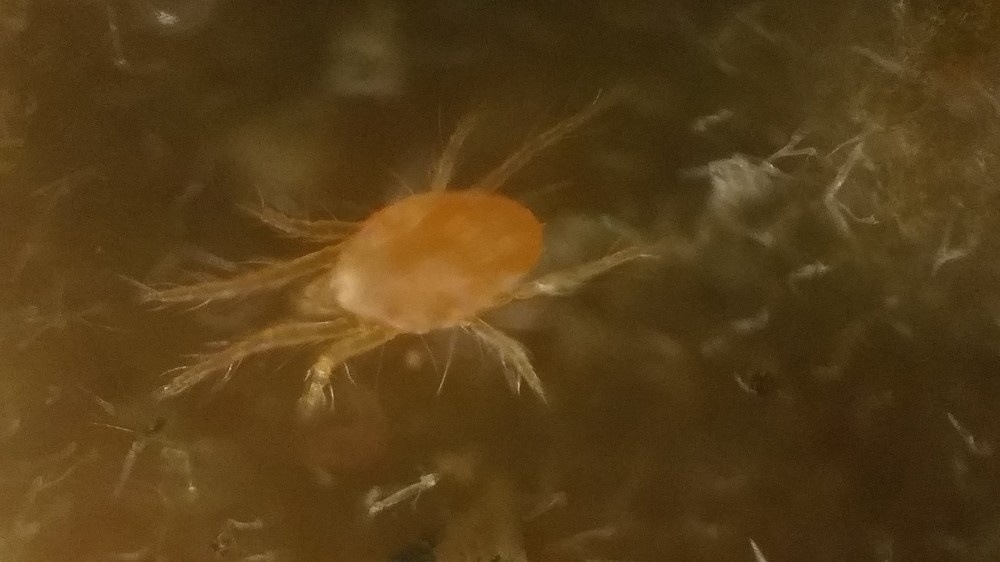Aracnido Rojo: (136, 90, 655, 472)
